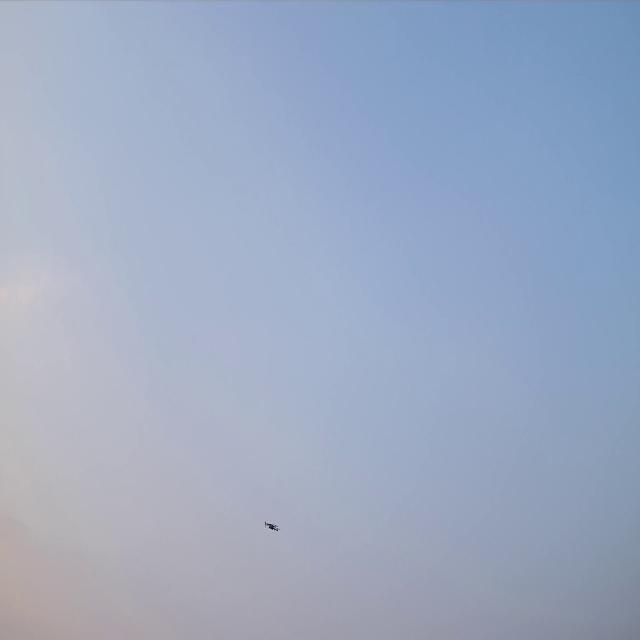UAV: (262, 520, 282, 533)
